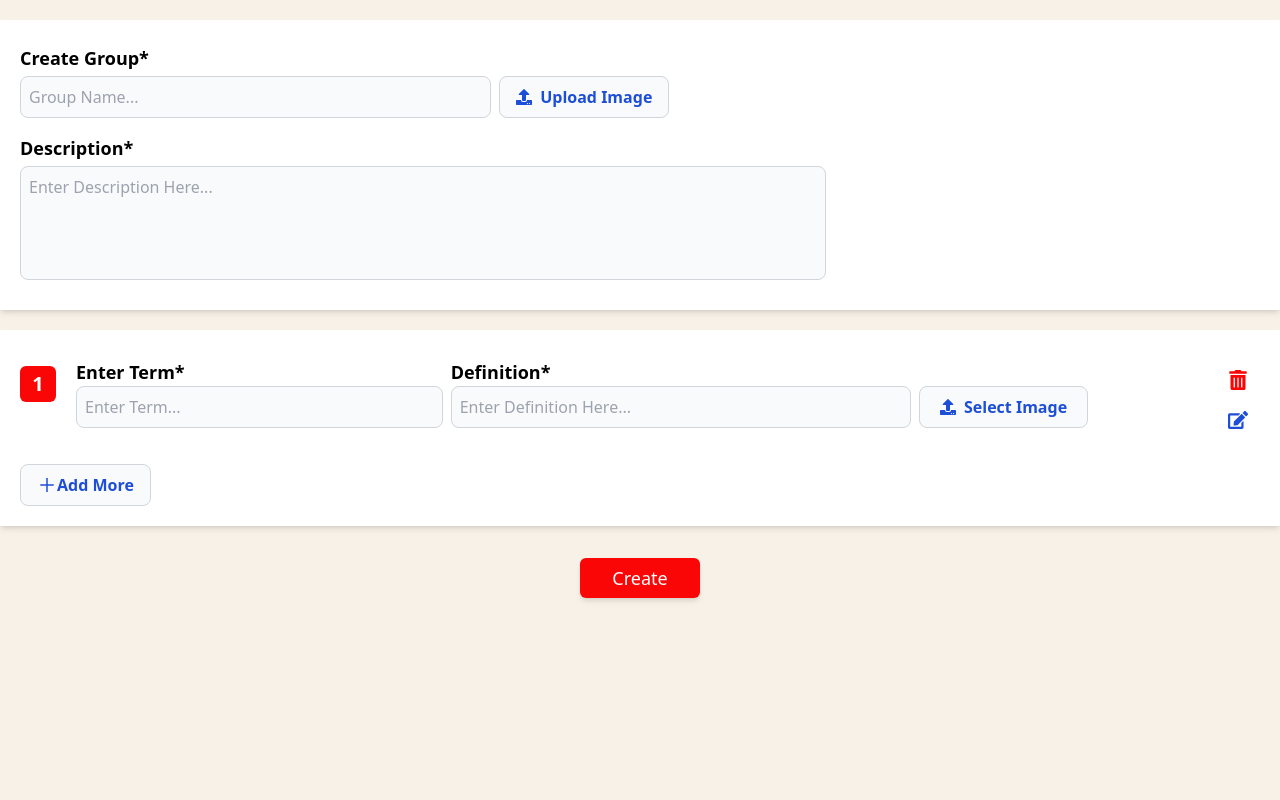
Test: CreateFlashCard › should show the message to add card when no card is present
Click the icon with test id "delete" at (1238,380), box [1228, 370, 1248, 390]
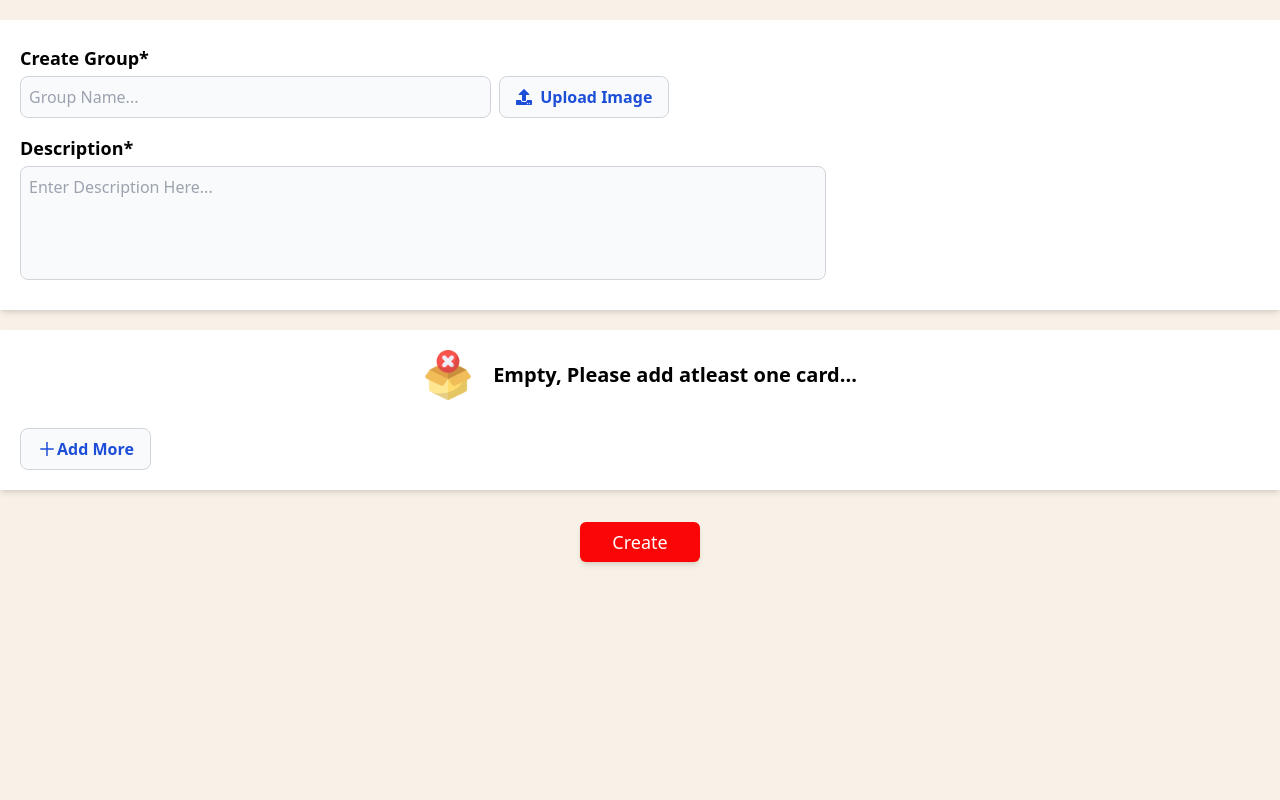
Expected: the text "Empty, Please add atleast one card..." is shown, [493, 361, 857, 389]
